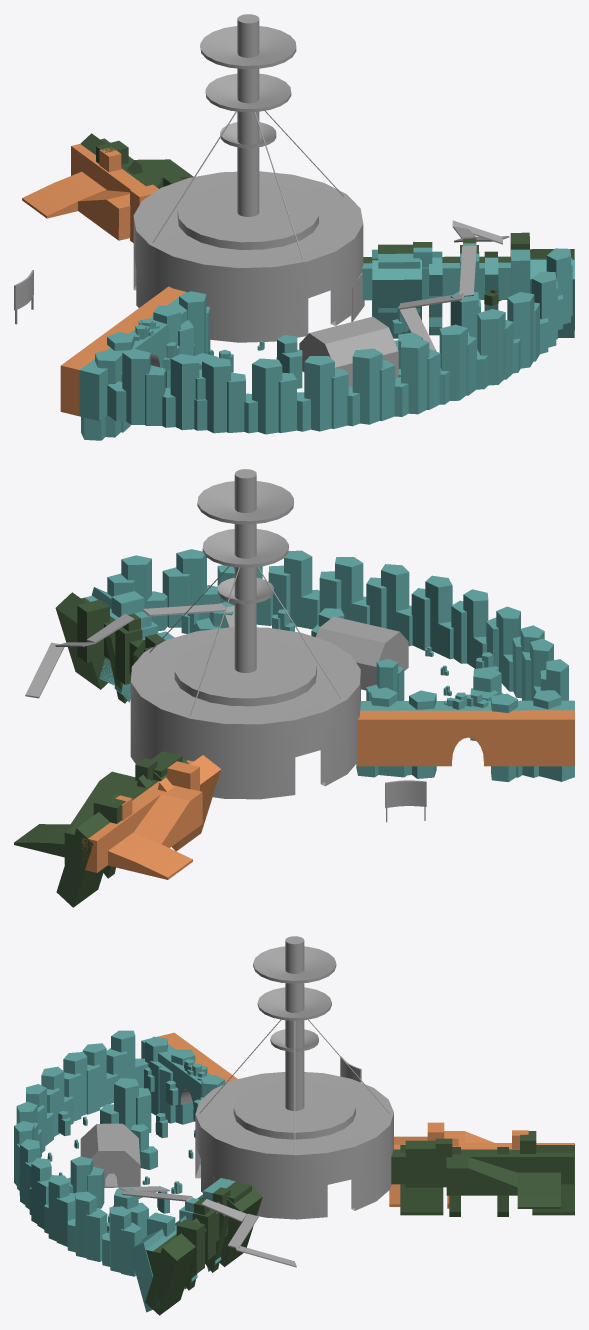
The model's file is Blockout.fbx.
The picture shows the model from 3 angles, top to bottom: view 1: azimuth 30°, elevation 25°; view 2: azimuth 150°, elevation 25°; view 3: azimuth 270°, elevation 25°; orthographic projection. The views are drawn at different scales.
Parts seen in each view (by area): view 1: pPipe1, polySurface1633, polySurface1379, polySurface1524, polySurface1590, polySurface1477, polySurface1570, polySurface1534, polySurface1478, polySurface1559, polySurface1537, polySurface1531 (+31 smaller); view 2: pPipe1, polySurface1633, polySurface1379, polySurface1524, polySurface1478, polySurface1461, polySurface1477, polySurface1436, polySurface1595, polySurface1567, polySurface1515, polySurface1560 (+34 smaller); view 3: pPipe1, polySurface1633, polySurface1524, polySurface1448, polySurface1438, polySurface1595, polySurface1379, polySurface1405, polySurface1462, polySurface1435, polySurface1566, polySurface1588 (+30 smaller).
Part boxes in pixels (box(x1,y1,x2,y2)): pPipe1: box(133, 171, 363, 342); polySurface1633: box(177, 14, 318, 249); polySurface1379: box(60, 286, 187, 420); polySurface1524: box(299, 316, 398, 386); polySurface1590: box(372, 260, 421, 338); polySurface1477: box(22, 171, 106, 218); polySurface1570: box(361, 262, 510, 300); polySurface1534: box(304, 356, 334, 431); polySurface1478: box(78, 190, 130, 240); polySurface1559: box(252, 358, 282, 434); polySurface1537: box(352, 348, 382, 424); polySurface1531: box(170, 354, 199, 430); pPipe1: box(130, 627, 360, 799); polySurface1633: box(174, 469, 316, 706); polySurface1379: box(356, 700, 574, 766); polySurface1524: box(316, 616, 408, 690); polySurface1478: box(133, 785, 202, 847); polySurface1461: box(56, 812, 110, 907); polySurface1477: box(108, 833, 192, 879); polySurface1436: box(82, 760, 193, 872); polySurface1595: box(55, 592, 113, 689); polySurface1567: box(77, 599, 109, 662); polySurface1515: box(284, 550, 312, 627); polySurface1560: box(381, 564, 409, 630); pPipe1: box(195, 1072, 393, 1219); polySurface1633: box(233, 936, 355, 1139); polySurface1524: box(80, 1123, 140, 1187); polySurface1448: box(391, 1149, 573, 1184); polySurface1438: box(446, 1156, 517, 1195); polySurface1595: box(145, 1233, 195, 1315); polySurface1379: box(141, 1032, 237, 1108); polySurface1405: box(517, 1172, 560, 1208); polySurface1462: box(405, 1140, 441, 1187); polySurface1435: box(400, 1145, 443, 1215); polySurface1566: box(219, 1183, 262, 1266); polySurface1588: box(129, 1229, 164, 1312).
Size of the model in its own units: 921 by 538 by 1007.
